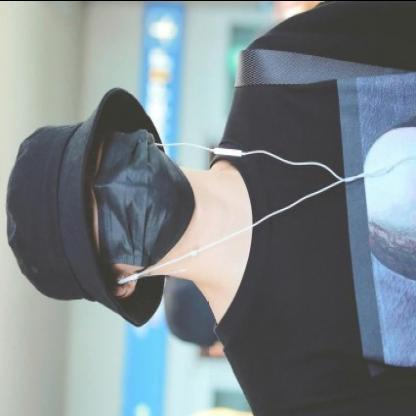hat: (3, 84, 174, 332)
